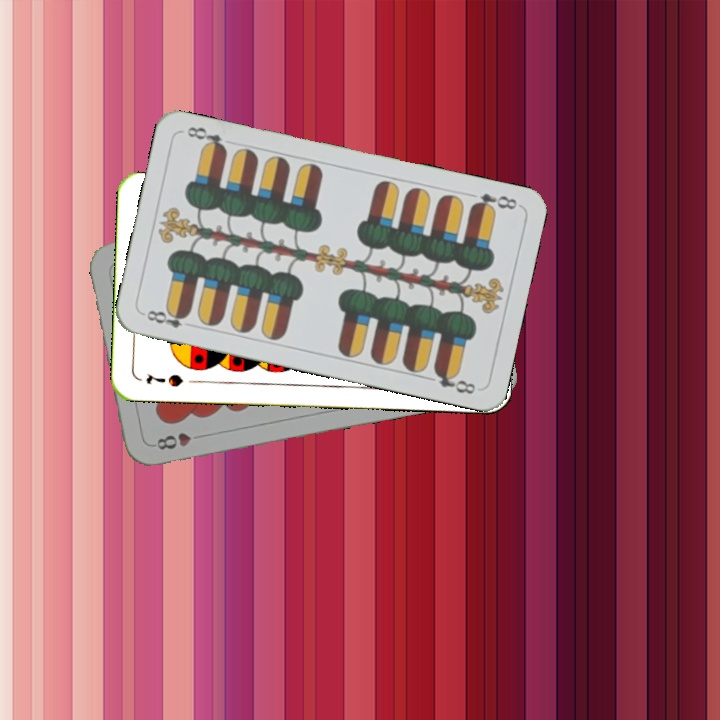E8: (139, 305, 197, 331), (466, 189, 520, 215)
H8: (152, 428, 207, 452)
S7: (142, 369, 186, 390)
